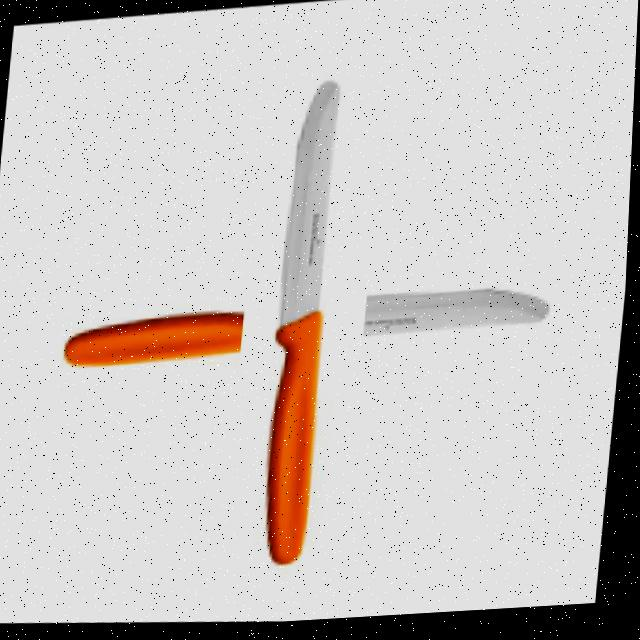knife: (67, 267, 556, 397), (257, 82, 354, 576)
